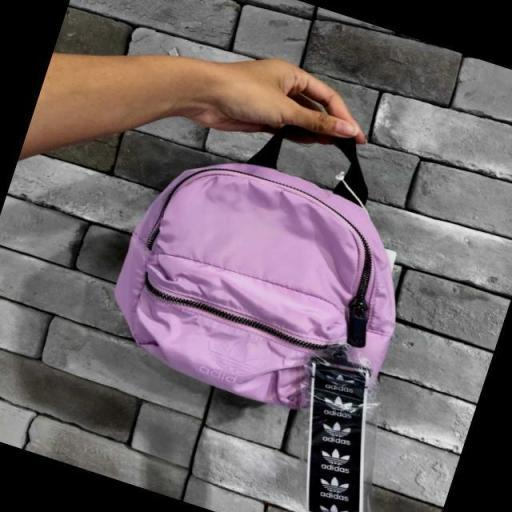bag: (107, 83, 409, 434)
